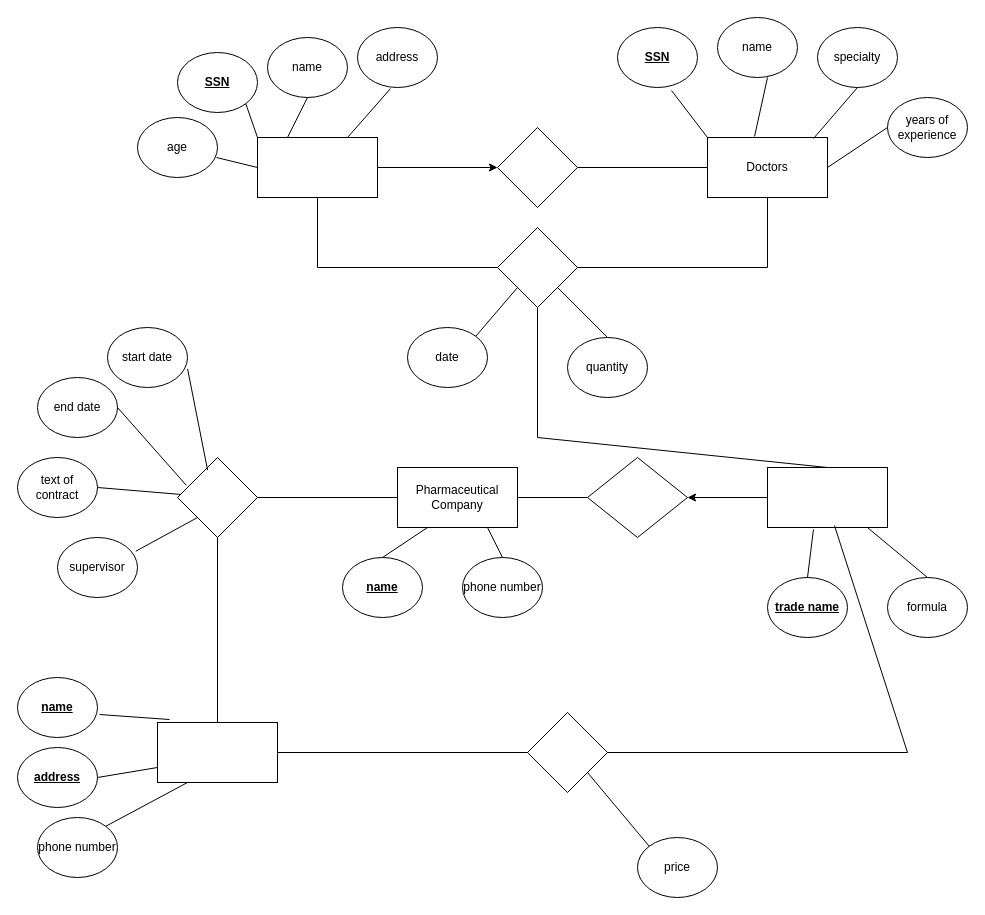
Some shapes in this 985 by 915 pixel diagram are drawn without their labels. The shapes that lost their labels are listed below. From the top down, each one's centre as x and y in pixels, then its label:
At point (317, 167): "Patients".
At point (537, 167): "Primary Physician".
At point (537, 267): "prescribe drugs".
At point (217, 497): "contracts".
At point (637, 497): "sold by/makes".
At point (827, 497): "Drug".
At point (217, 752): "Pharmacy".
At point (567, 752): "sells".
